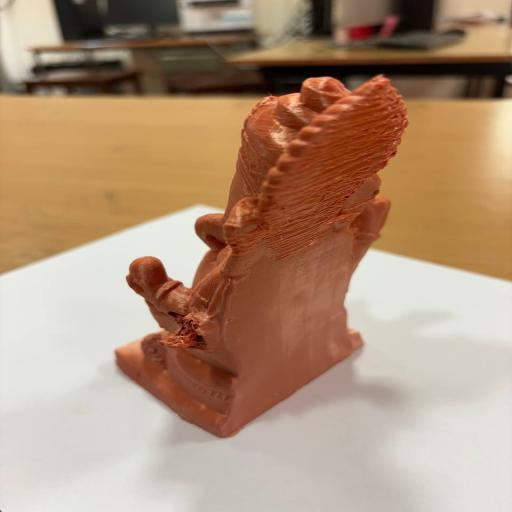cracks: (152, 303, 208, 360)
